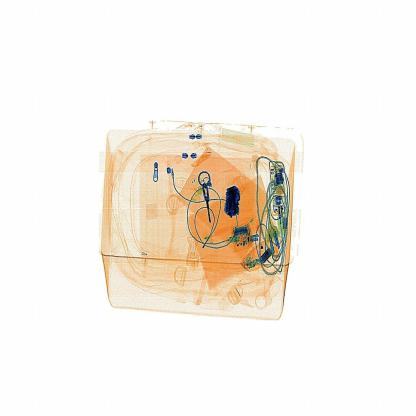scissors: (221, 178, 249, 224)
